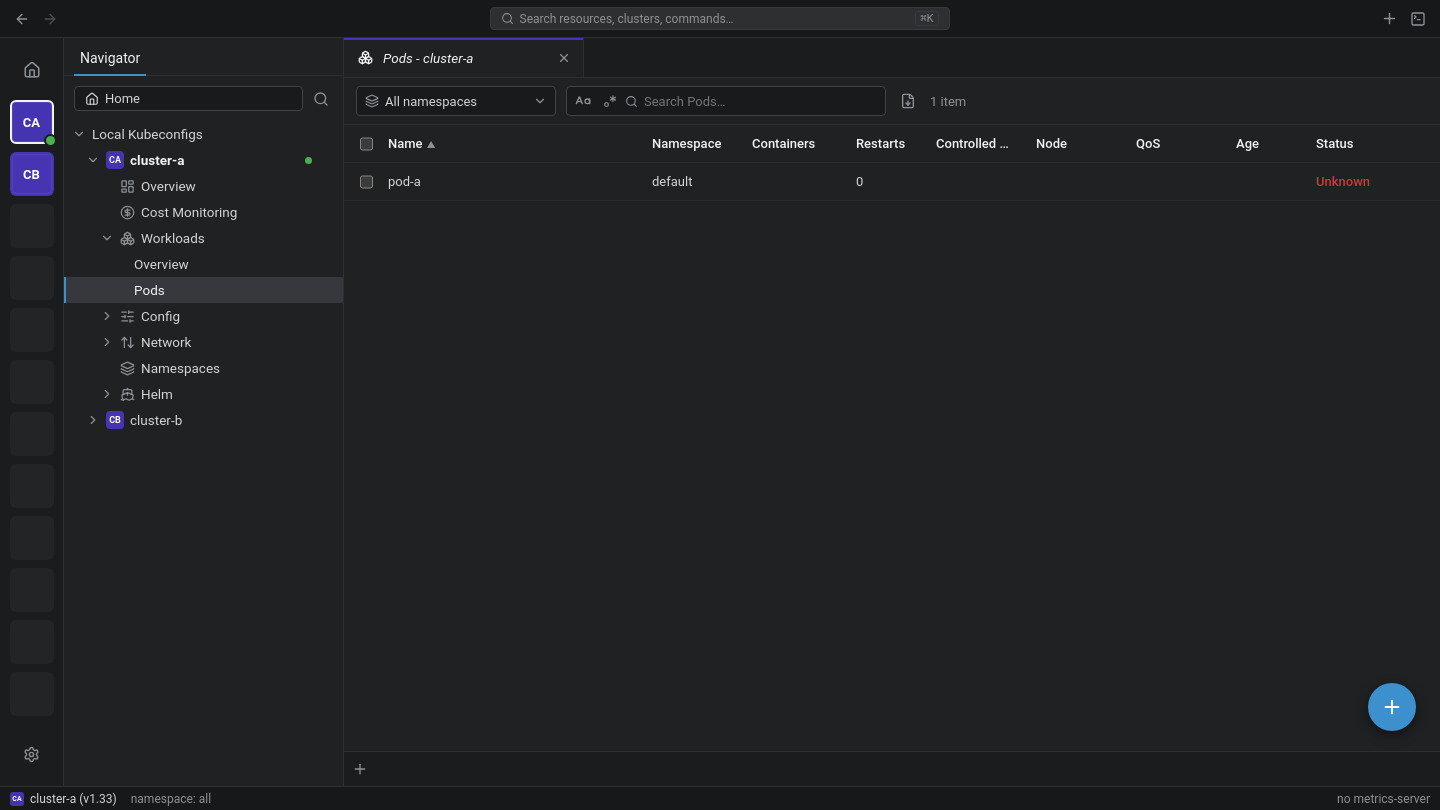
Scenario: several connected clusters › shows each cluster's own namespaces and pods
Expected: the text "pod-a" is shown, [388,174,421,189]
Click the text "cluster-b". click: (156, 420)
box: [130,412,182,428]
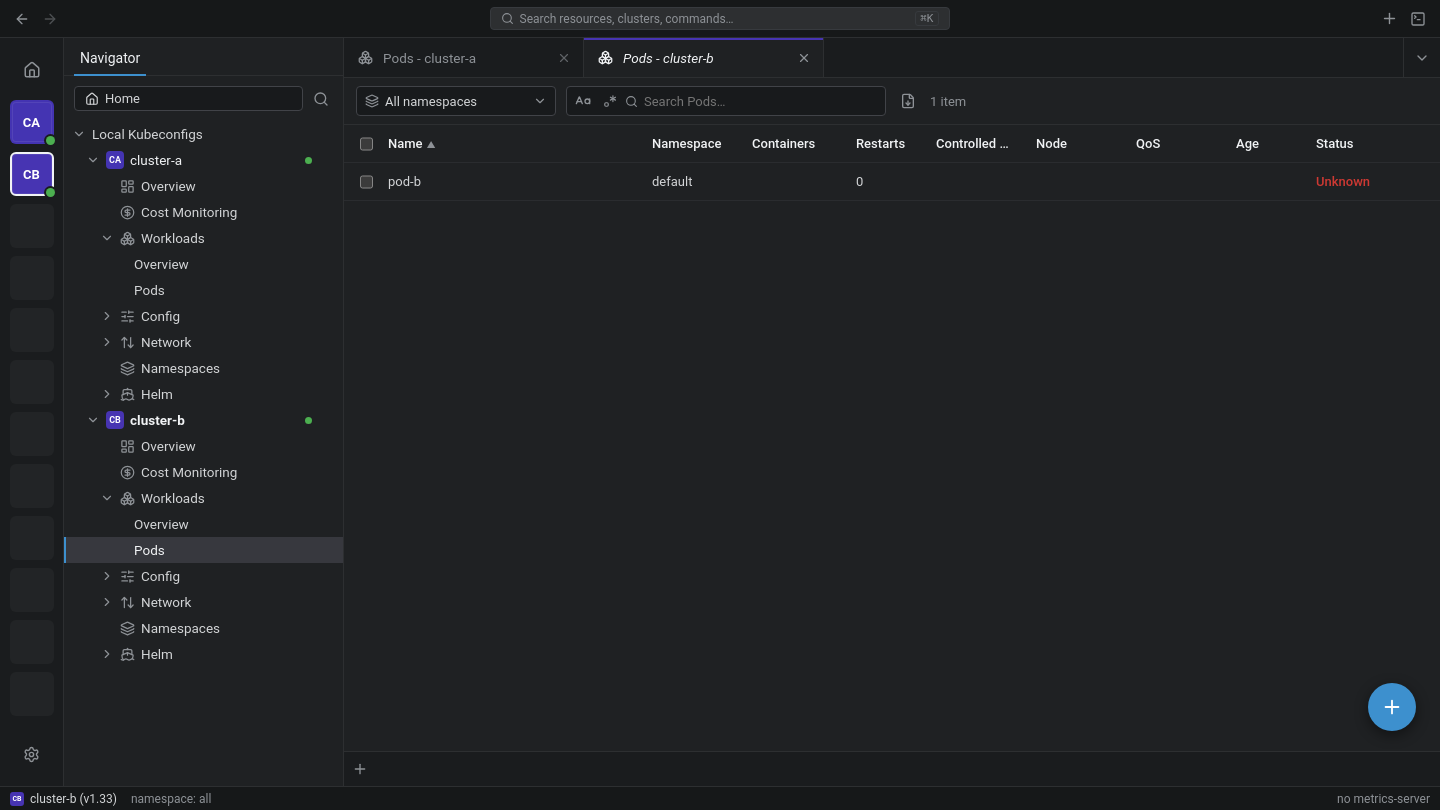
Expected: the text "pod-b" is shown, [388,174,421,189]
Expected: the text "pod-a" is gone
Click the button with class "ns-select-btn". click: (456, 101)
box: [356,86,556,116]
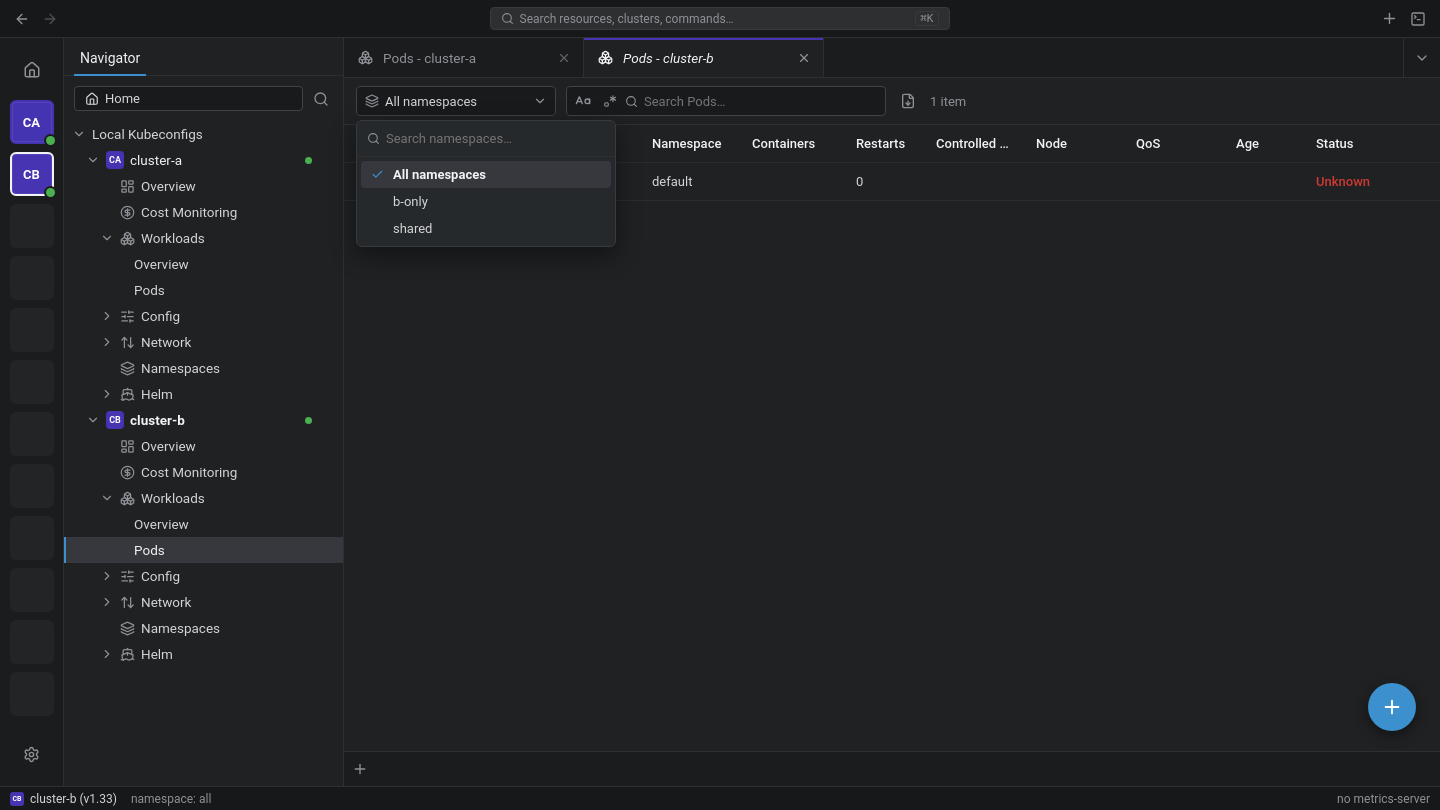
Expected: the text "b-only" is shown, [393,194,428,209]
